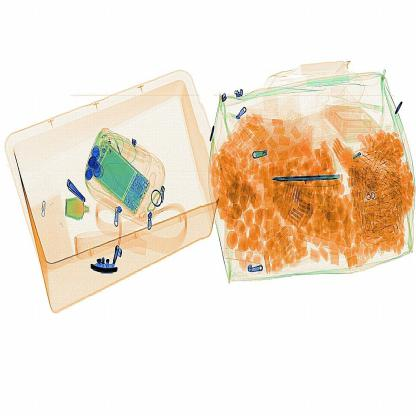pliers: (274, 170, 346, 188)
